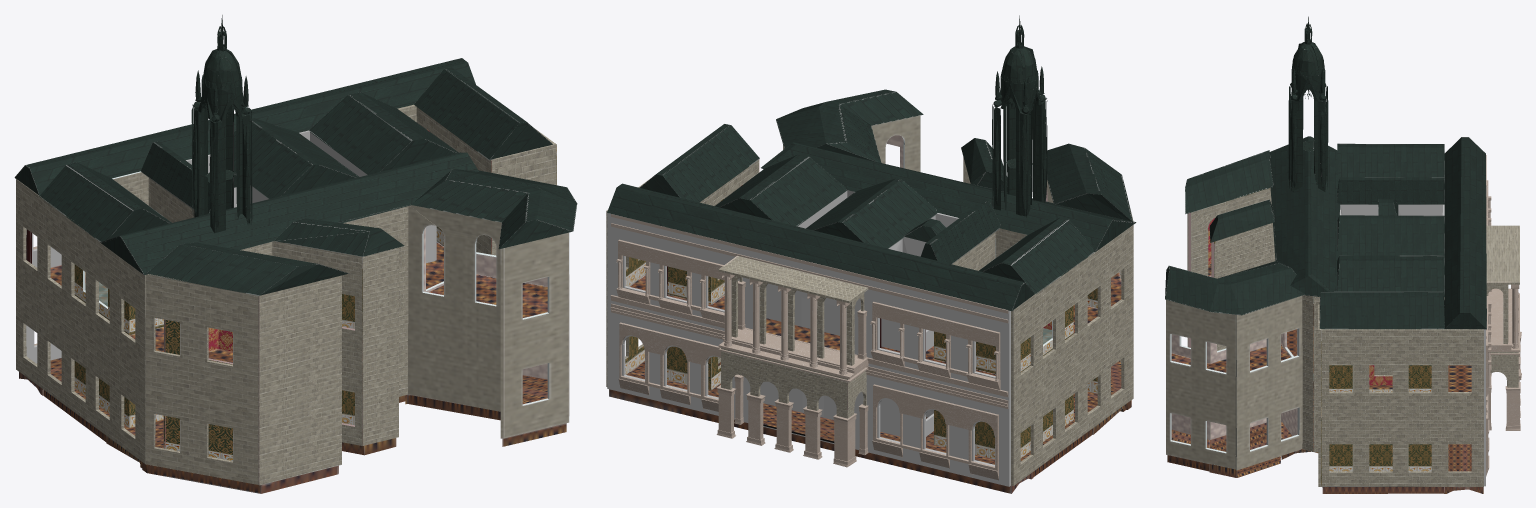
The model's file is ResidenzCastle.fbx.
3 renders of one model, left to right at view 1: azimuth 30°, elevation 25°; view 2: azimuth 150°, elevation 25°; view 3: azimuth 270°, elevation 25°, orthographic. The views are drawn at different scales.
Parts seen in each view (by area): view 1: TriangularRoofs, OutsideWall_Right, BigRoom_Library, BigRoom_RightEnd, InsideWalls_Corridor, ResidenzTopTower, GroundFloor, MiddleRoom, BigRoom_Right, FirstFloorSealing, InsideRooms, OutsideWall_Front; view 2: TriangularRoofs, OutsideWall_Front, OutsideWall_Right, FrontWallWindowDeco, ResidenzTopTower, FrontWallRectangularDecoration, GroundFloor, rectangularPillarsFront, ArchsSecondFloor, InsideRooms, MiddleRoom, ArchsFrontGroundFloor (+8 smaller); view 3: TriangularRoofs, OutsideWall_Left, BigRoom_Library, ResidenzTopTower, BigRoom_Right, GroundFloor, LibraryCorridot_0, InsideWalls_Corridor, ArchsSecondFloor, BigRoom_RightEnd, FirstFloorSealing, FrontWallRectangularDecoration (+5 smaller).
Boxes of the visible parts, x1,y1,x2,y2 form: TriangularRoofs: (14, 58, 577, 295); OutsideWall_Right: (16, 179, 258, 484); BigRoom_Library: (408, 205, 569, 438); BigRoom_RightEnd: (163, 242, 341, 485); InsideWalls_Corridor: (272, 206, 408, 445); ResidenzTopTower: (191, 15, 252, 233); GroundFloor: (19, 358, 566, 493); MiddleRoom: (74, 171, 194, 427); BigRoom_Right: (397, 104, 556, 255); FirstFloorSealing: (50, 241, 547, 362); InsideRooms: (186, 130, 436, 263); OutsideWall_Front: (26, 233, 61, 363); TriangularRoofs: (607, 89, 1136, 311); OutsideWall_Front: (607, 213, 1010, 486); OutsideWall_Right: (1011, 207, 1133, 485); FrontWallWindowDeco: (616, 239, 1000, 480); ResidenzTopTower: (992, 15, 1047, 217); FrontWallRectangularDecoration: (610, 295, 1008, 408); GroundFloor: (609, 360, 1131, 493); rectangularPillarsFront: (716, 374, 868, 467); ArchsSecondFloor: (718, 256, 868, 365); InsideRooms: (760, 190, 958, 436); MiddleRoom: (934, 228, 1073, 459); ArchsFrontGroundFloor: (721, 348, 866, 418); TriangularRoofs: (1165, 136, 1486, 329); OutsideWall_Left: (1321, 329, 1483, 486); BigRoom_Library: (1166, 296, 1302, 470); ResidenzTopTower: (1288, 16, 1328, 191); BigRoom_Right: (1318, 297, 1444, 486); GroundFloor: (1167, 388, 1483, 493); LibraryCorridot_0: (1302, 295, 1392, 452); InsideWalls_Corridor: (1211, 223, 1275, 350); ArchsSecondFloor: (1486, 225, 1519, 344); BigRoom_RightEnd: (1187, 187, 1271, 347); FirstFloorSealing: (1171, 264, 1471, 391); FrontWallRectangularDecoration: (1486, 288, 1519, 415).
Size of the model in its own units: 616 by 556 by 522.
